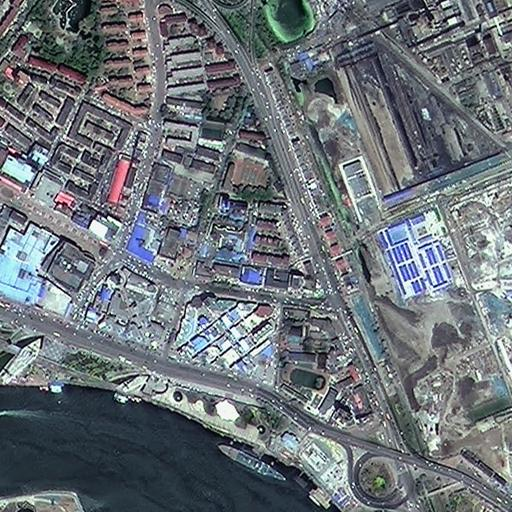school: (221, 126, 289, 203), (274, 350, 338, 413)
